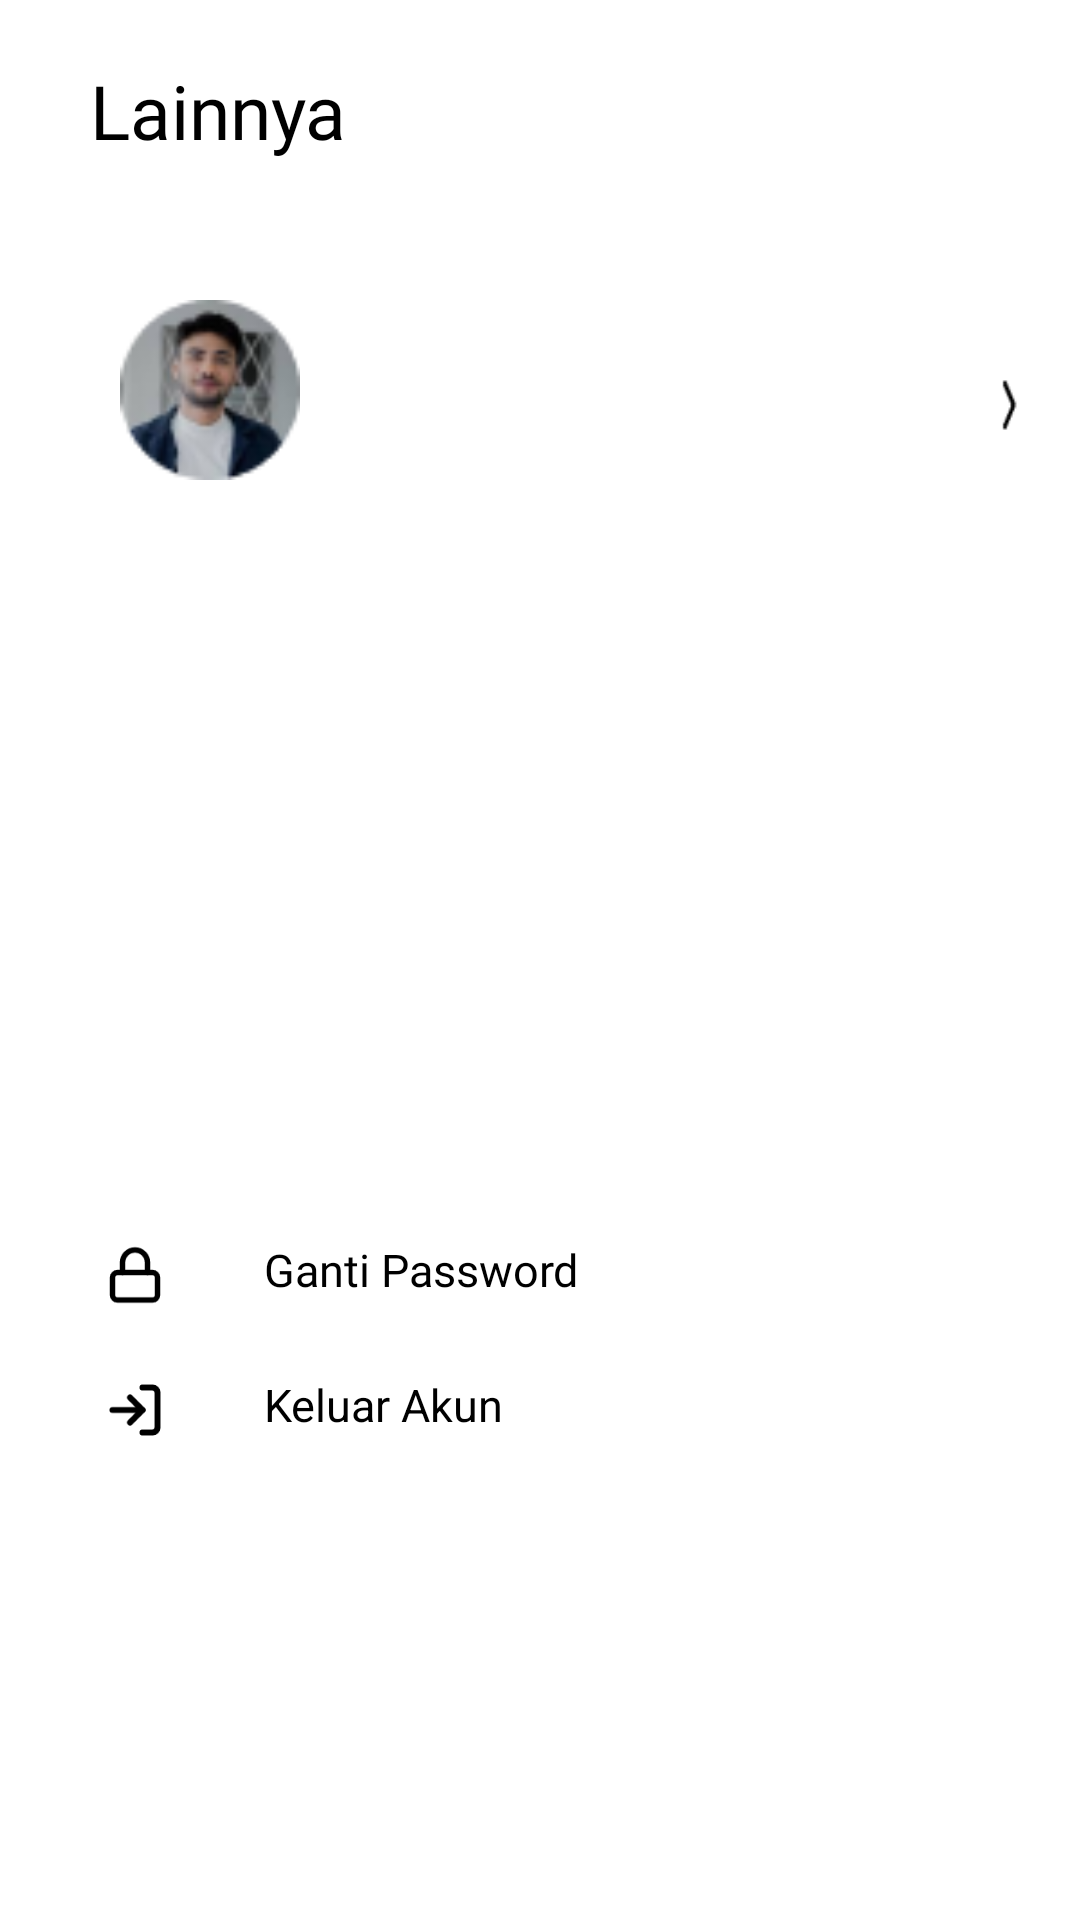

Named icons in this screenshot (1080x1920) and their centers, (x,y):
foto profil: (210,390)
ke profil: (1009,405)
lock: (135,1275)
log out: (135,1410)
